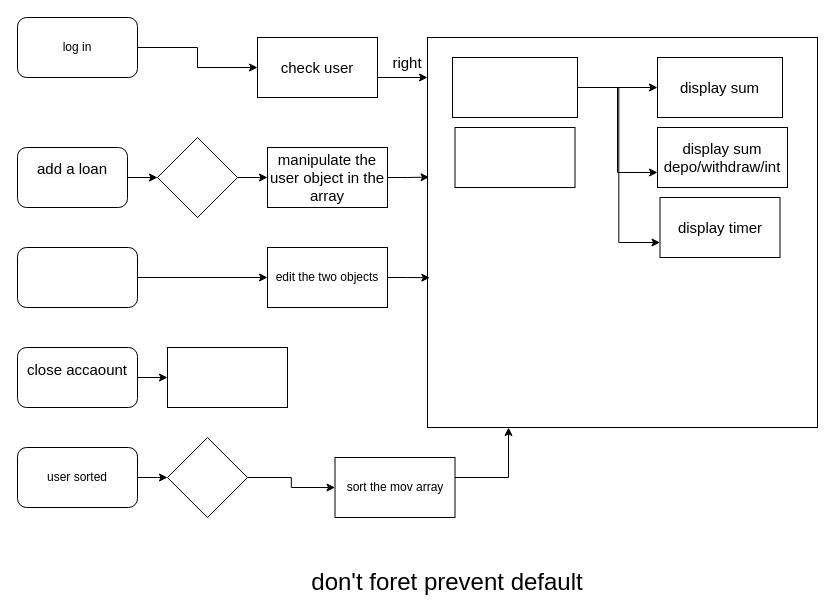
The diagram is 835 pixels wide and 615 high, and some of its shapes have lost their labels. Each missing label, with the centre of its shape:
"add a transaction" belongs at (77,277).
"add movments" belongs at (515,87).
"check the abbility" belongs at (197,177).
"display date" belongs at (514,157).
"edit the object array with splice" belongs at (227,377).
"if not sorted" belongs at (207,477).
